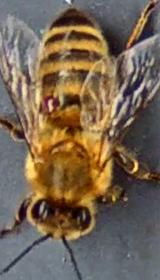varroa_mite: (33, 87, 67, 121)
